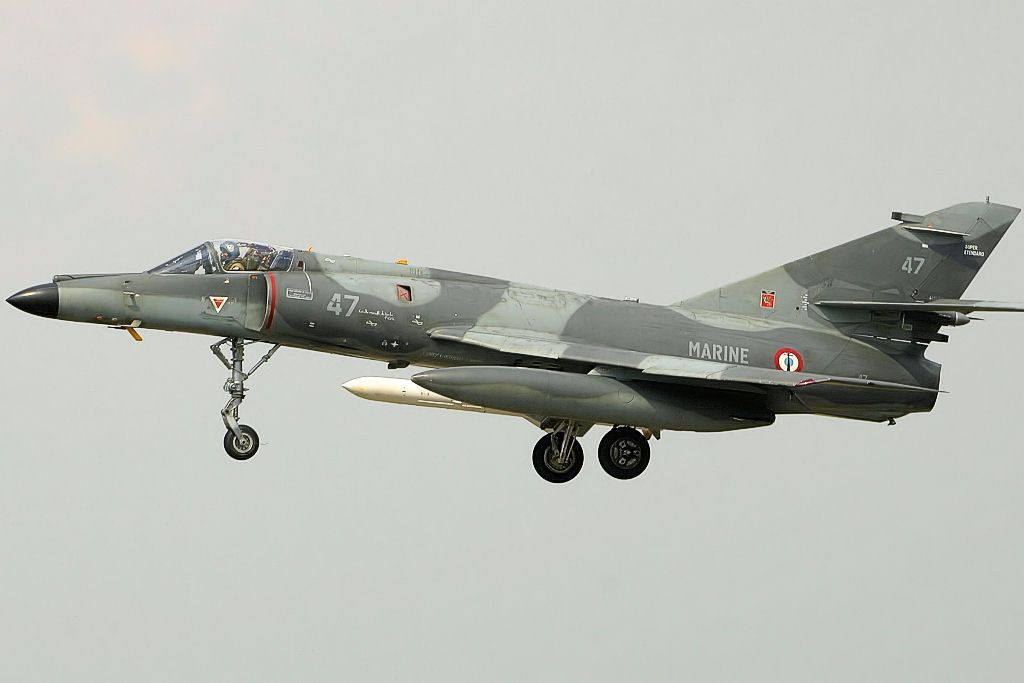Aeronef_militaire: (3, 192, 1024, 532)
